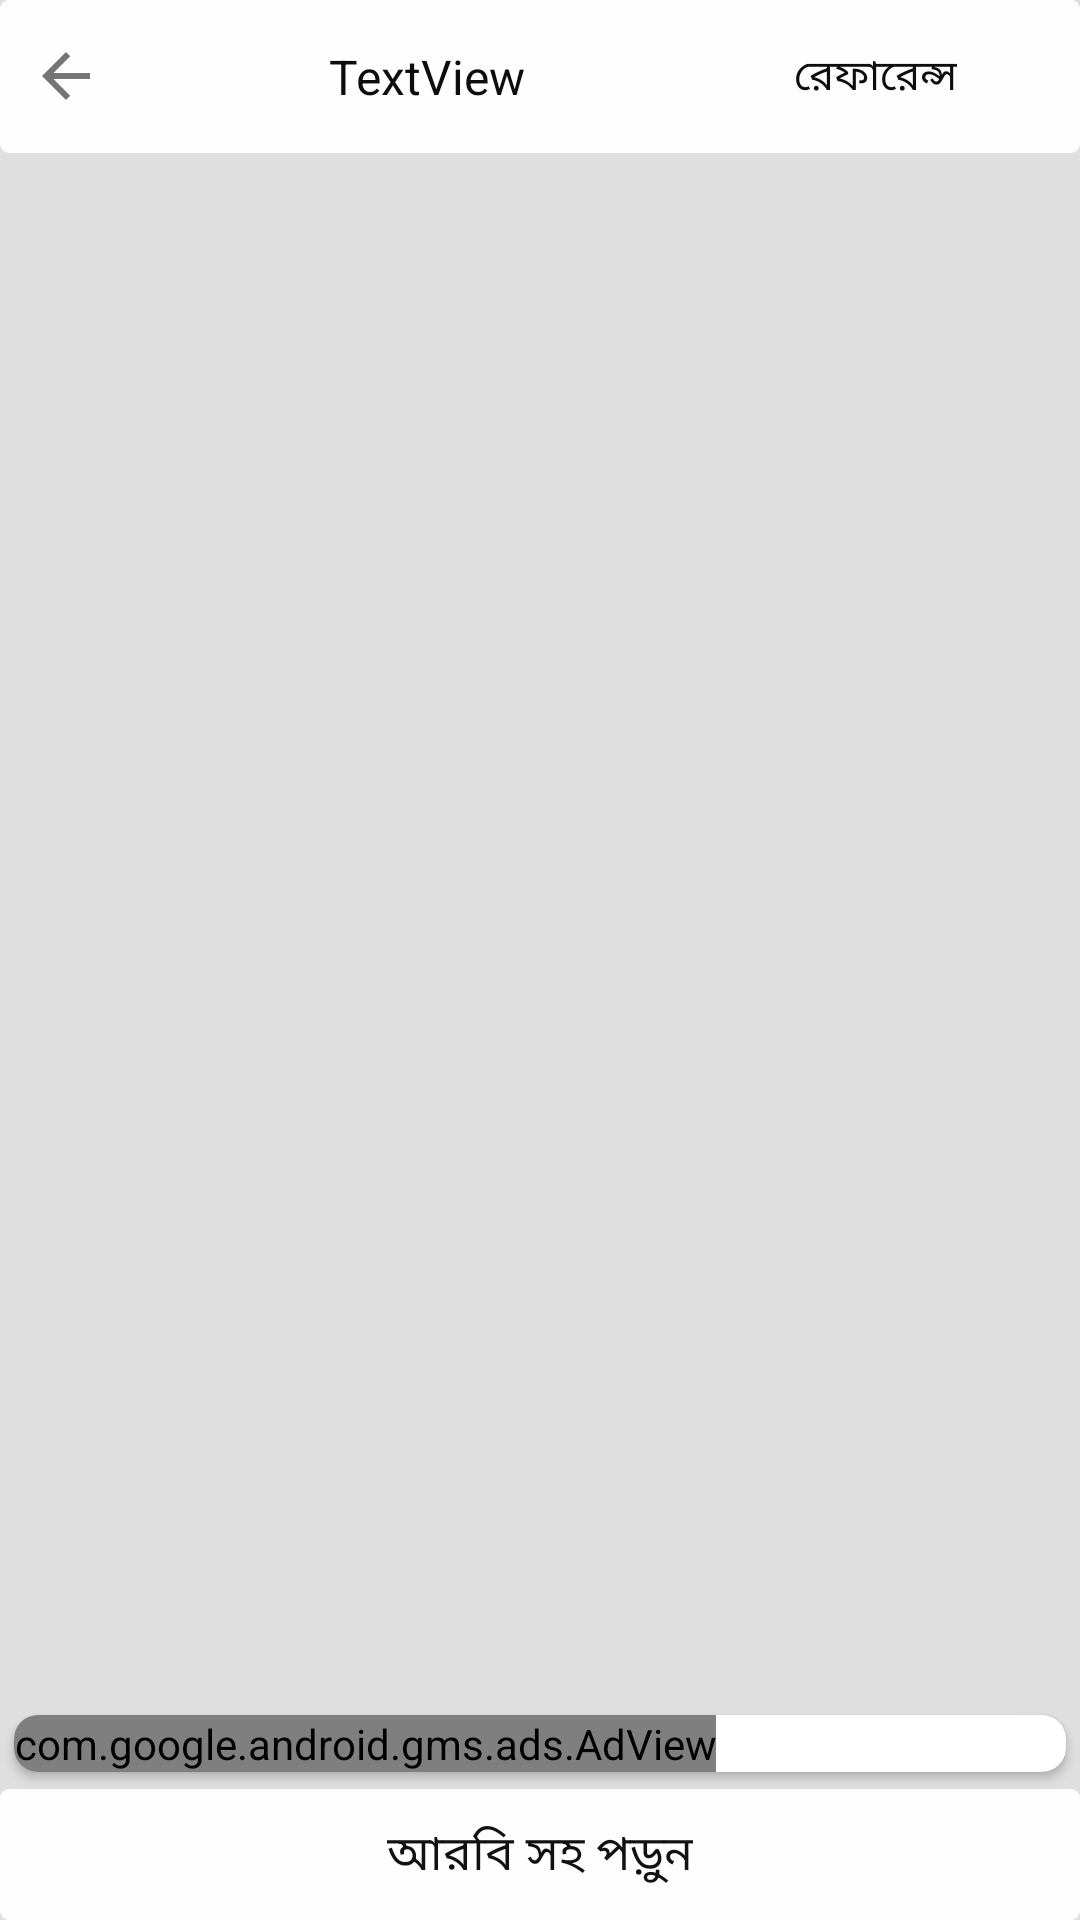

Icons on this 1080 x 1920 Android screen, each with its box as detection(x1, y1, x2, y2):
back: detection(42, 52, 90, 100)
